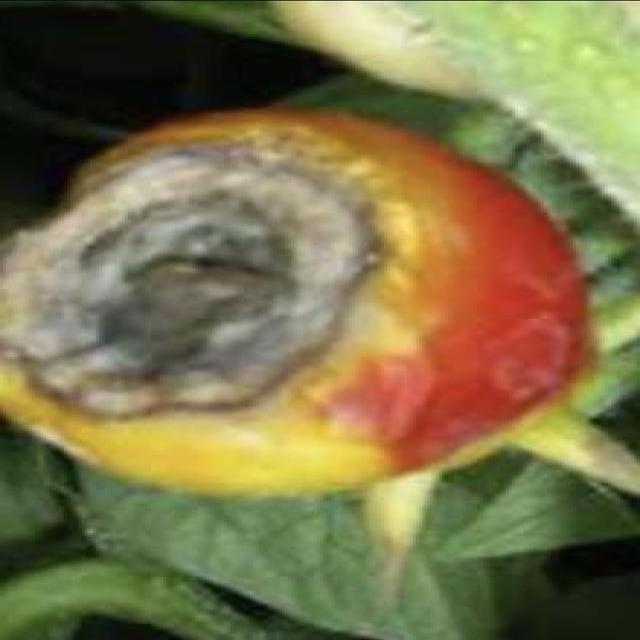Blossom End Rot Fruit: (0, 81, 264, 301)
